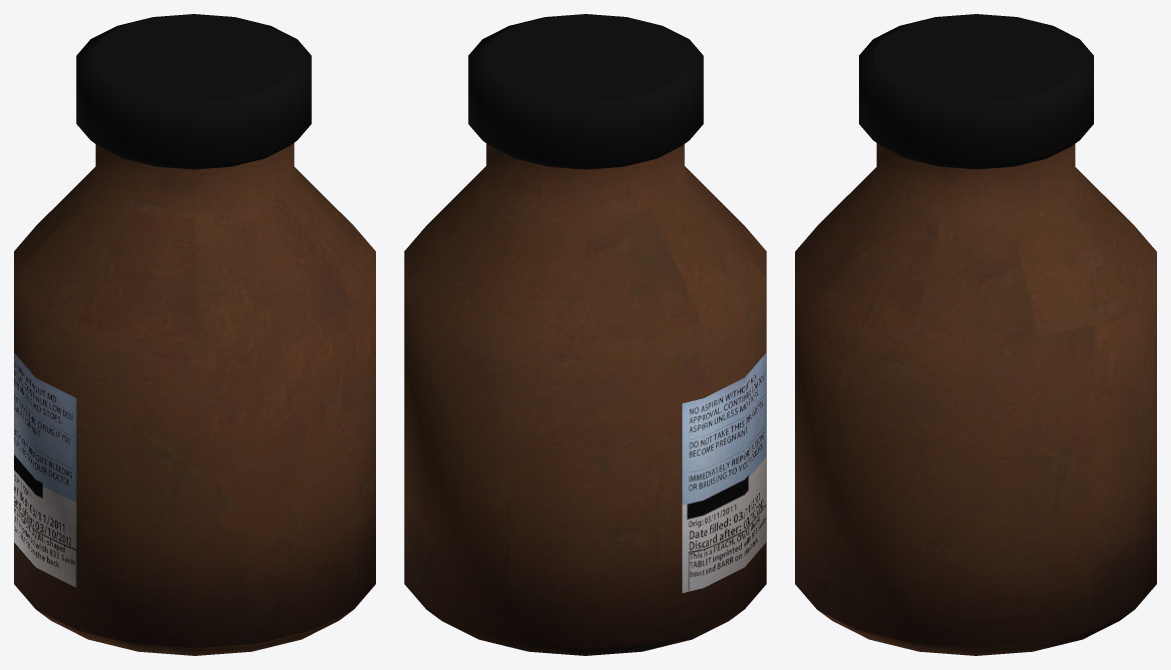
Rendered from Medicine.FBX.
3 views of the same model, side by side, from view 1: azimuth 30°, elevation 25°; view 2: azimuth 150°, elevation 25°; view 3: azimuth 270°, elevation 25° (orthographic).
Visible parts, largest first — view 1: Medicine; view 2: Medicine; view 3: Medicine.
Boxes of the visible parts, x1,y1,x2,y2 form: Medicine: (14,14,375,655); Medicine: (404,14,766,655); Medicine: (795,14,1156,655).
Bounding box in the file's own units: 6.67 × 10.57 × 6.57.
Materials: 1 (1 with a texture image).
